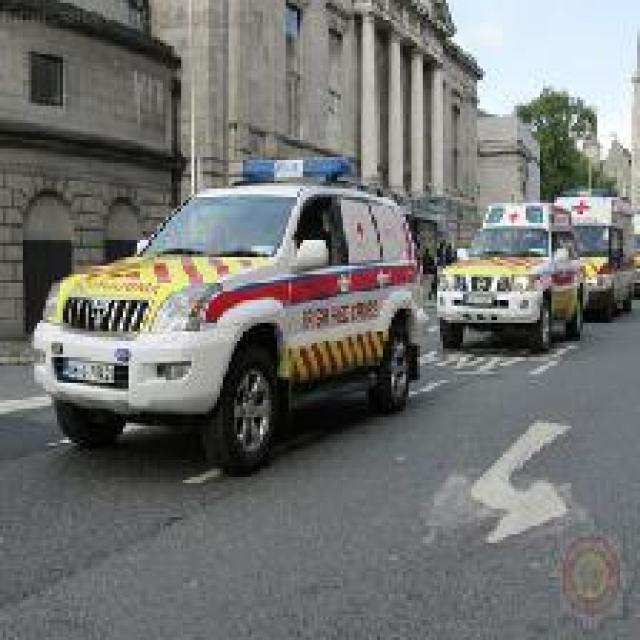emergency: (29, 164, 427, 476), (436, 200, 584, 356), (531, 190, 637, 322)
